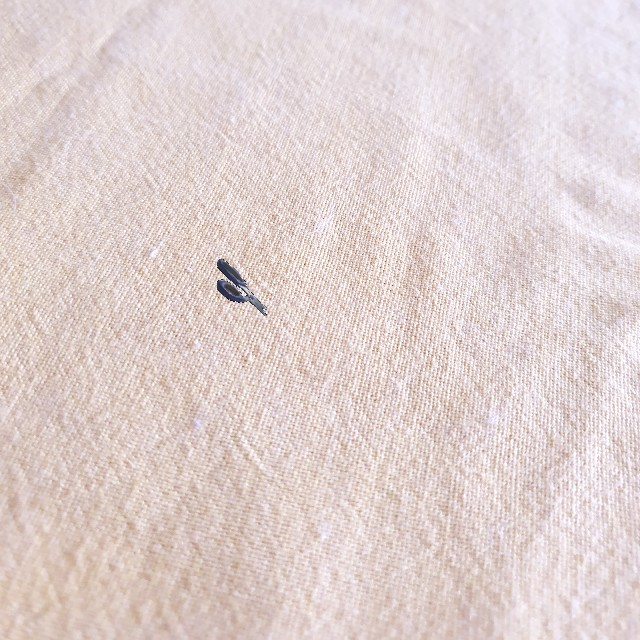scissors: (217, 259, 267, 316)
